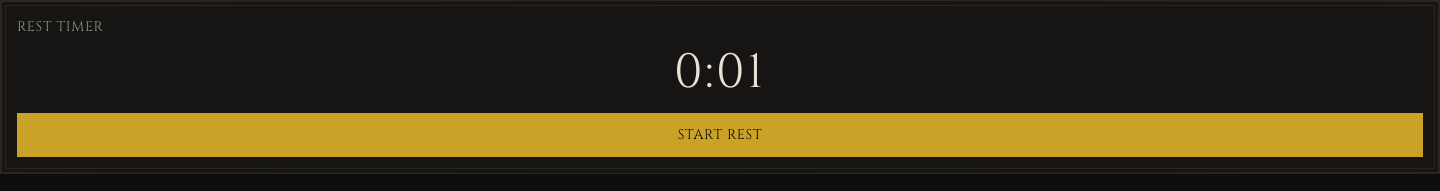
Test: uses a newly active registration on completion without waiting for ready
Later steps or results of the test are not shown.
Click the button "START REST" at [720, 135], box left=17, top=113, right=1423, bottom=157
Wait 1000 ms
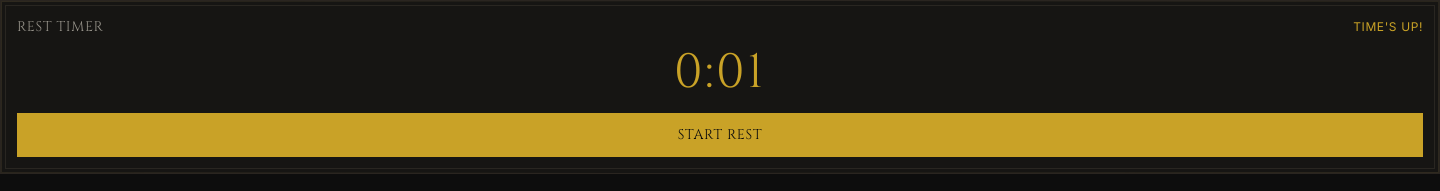
Now the text "Time's Up!" is shown, box left=1353, top=19, right=1423, bottom=35
